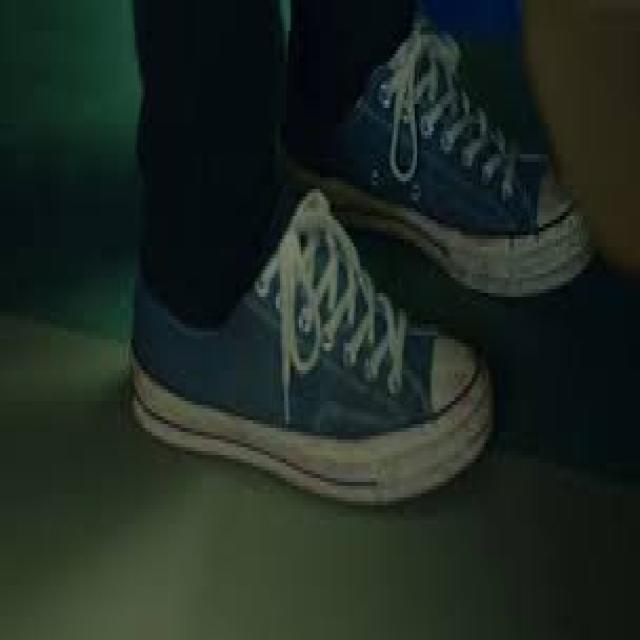shoe: (128, 176, 503, 522), (270, 18, 595, 316)
